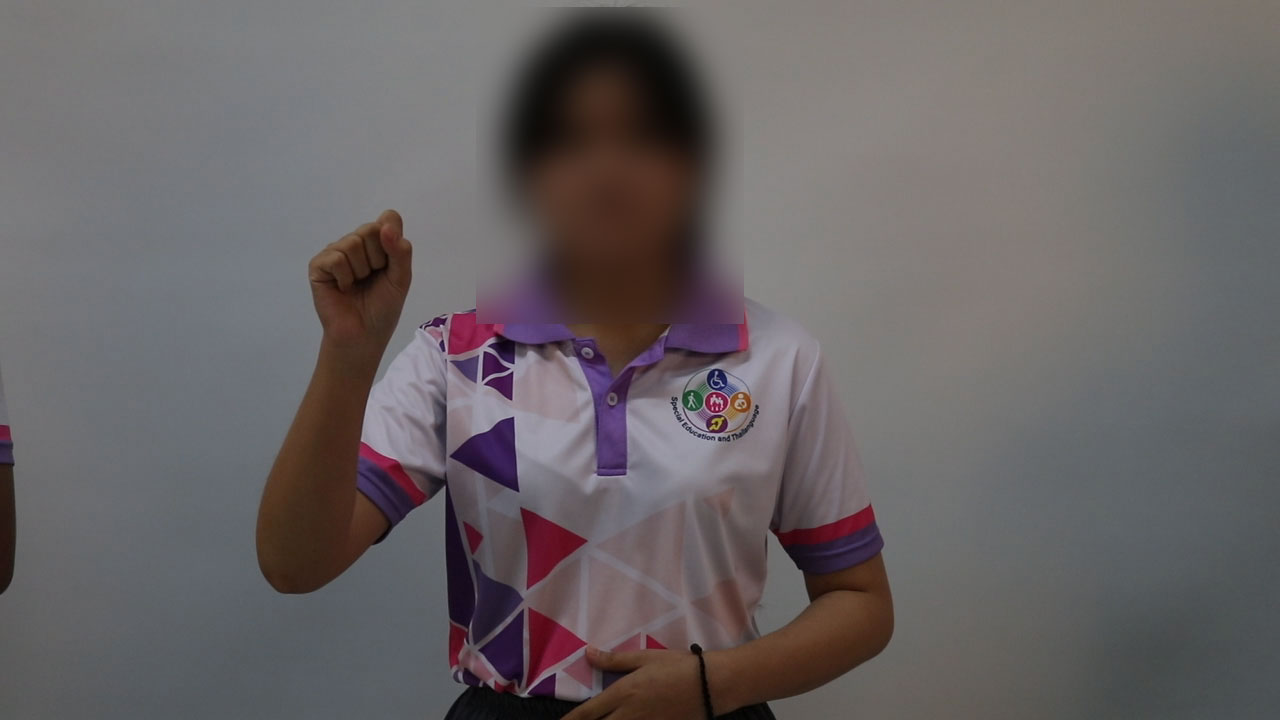sor: (291, 191, 434, 355)
